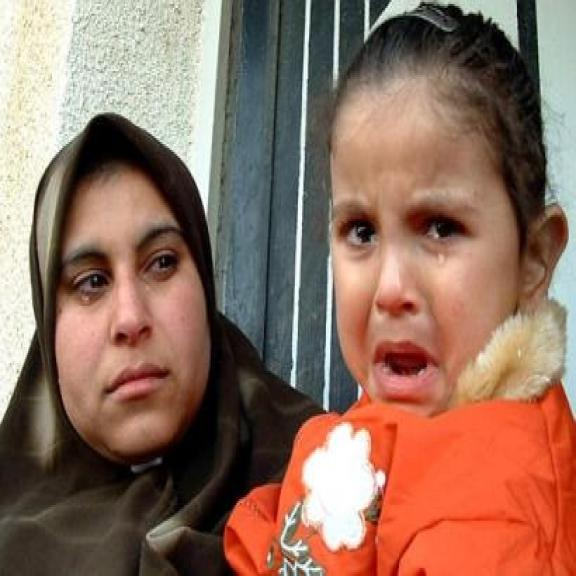face: (328, 81, 566, 419), (40, 164, 216, 460)
